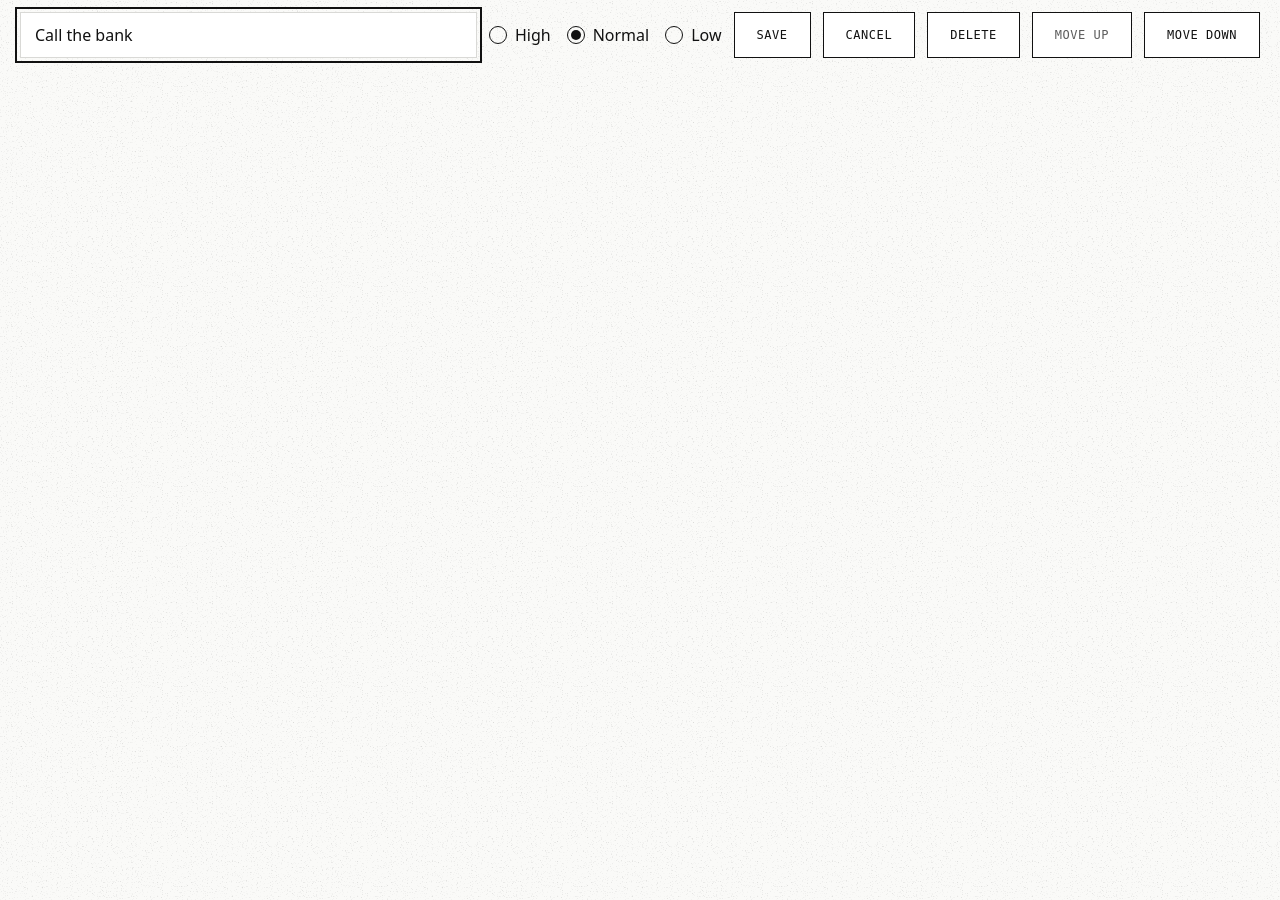
Test: moves the todo down a step, then says so, and turns the muted end around
Click the button "Move down" at (1202, 35), box [1144, 12, 1260, 58]
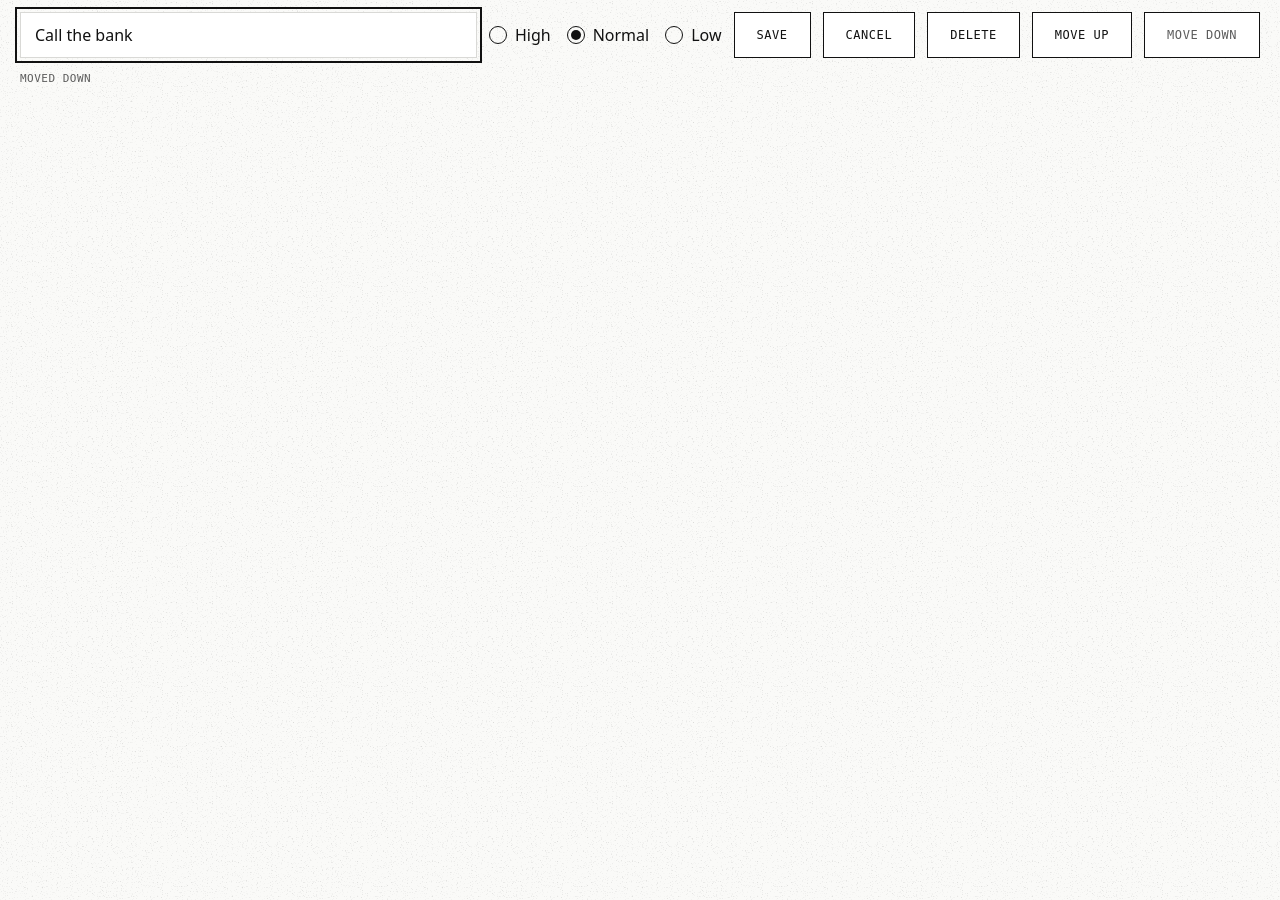
Expected: the message reads "Moved down", [20, 72, 91, 85]
